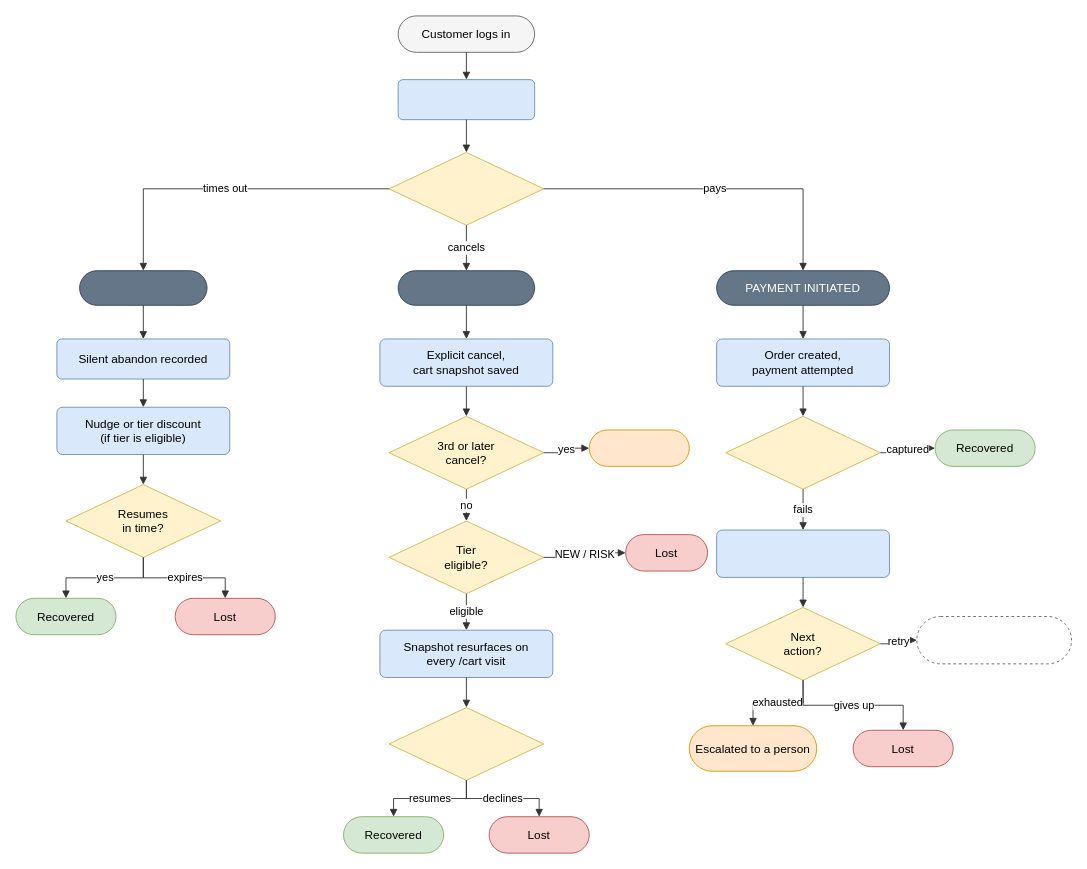
Some shapes in this 1087 by 869 pixel diagram are drawn without their labels. The box of each missing label's shape, as (x1, y1, x2, y2) in pixels:
Acts before expiry?: (388, 707, 544, 780)
Adds items to cart: (397, 79, 535, 120)
Back to: order created, payment attempted: (916, 616, 1072, 664)
CANCELLED: (397, 270, 535, 305)
Escalated: (588, 429, 689, 466)
Gateway result?: (725, 415, 880, 489)
Rules engine picks the next action: (716, 529, 890, 577)
TIMEOUT: (79, 270, 207, 305)
What happens to the cart?: (388, 152, 544, 225)
